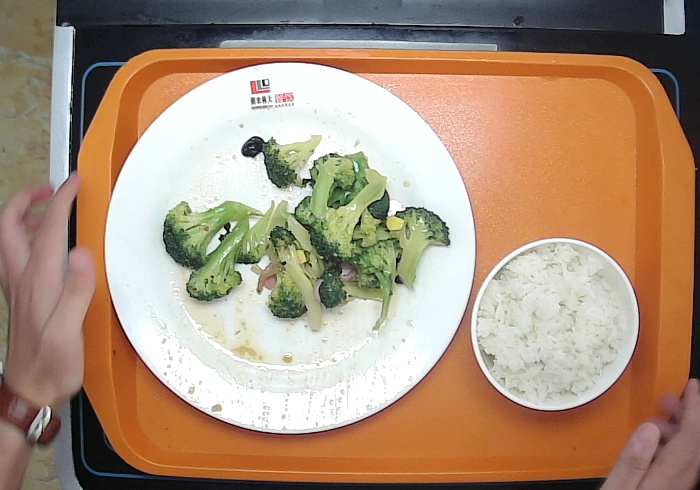ZNLD-Da_Yuan_Pan: (101, 59, 478, 435)
ZNLD-Fan_Wan: (469, 235, 641, 414)
